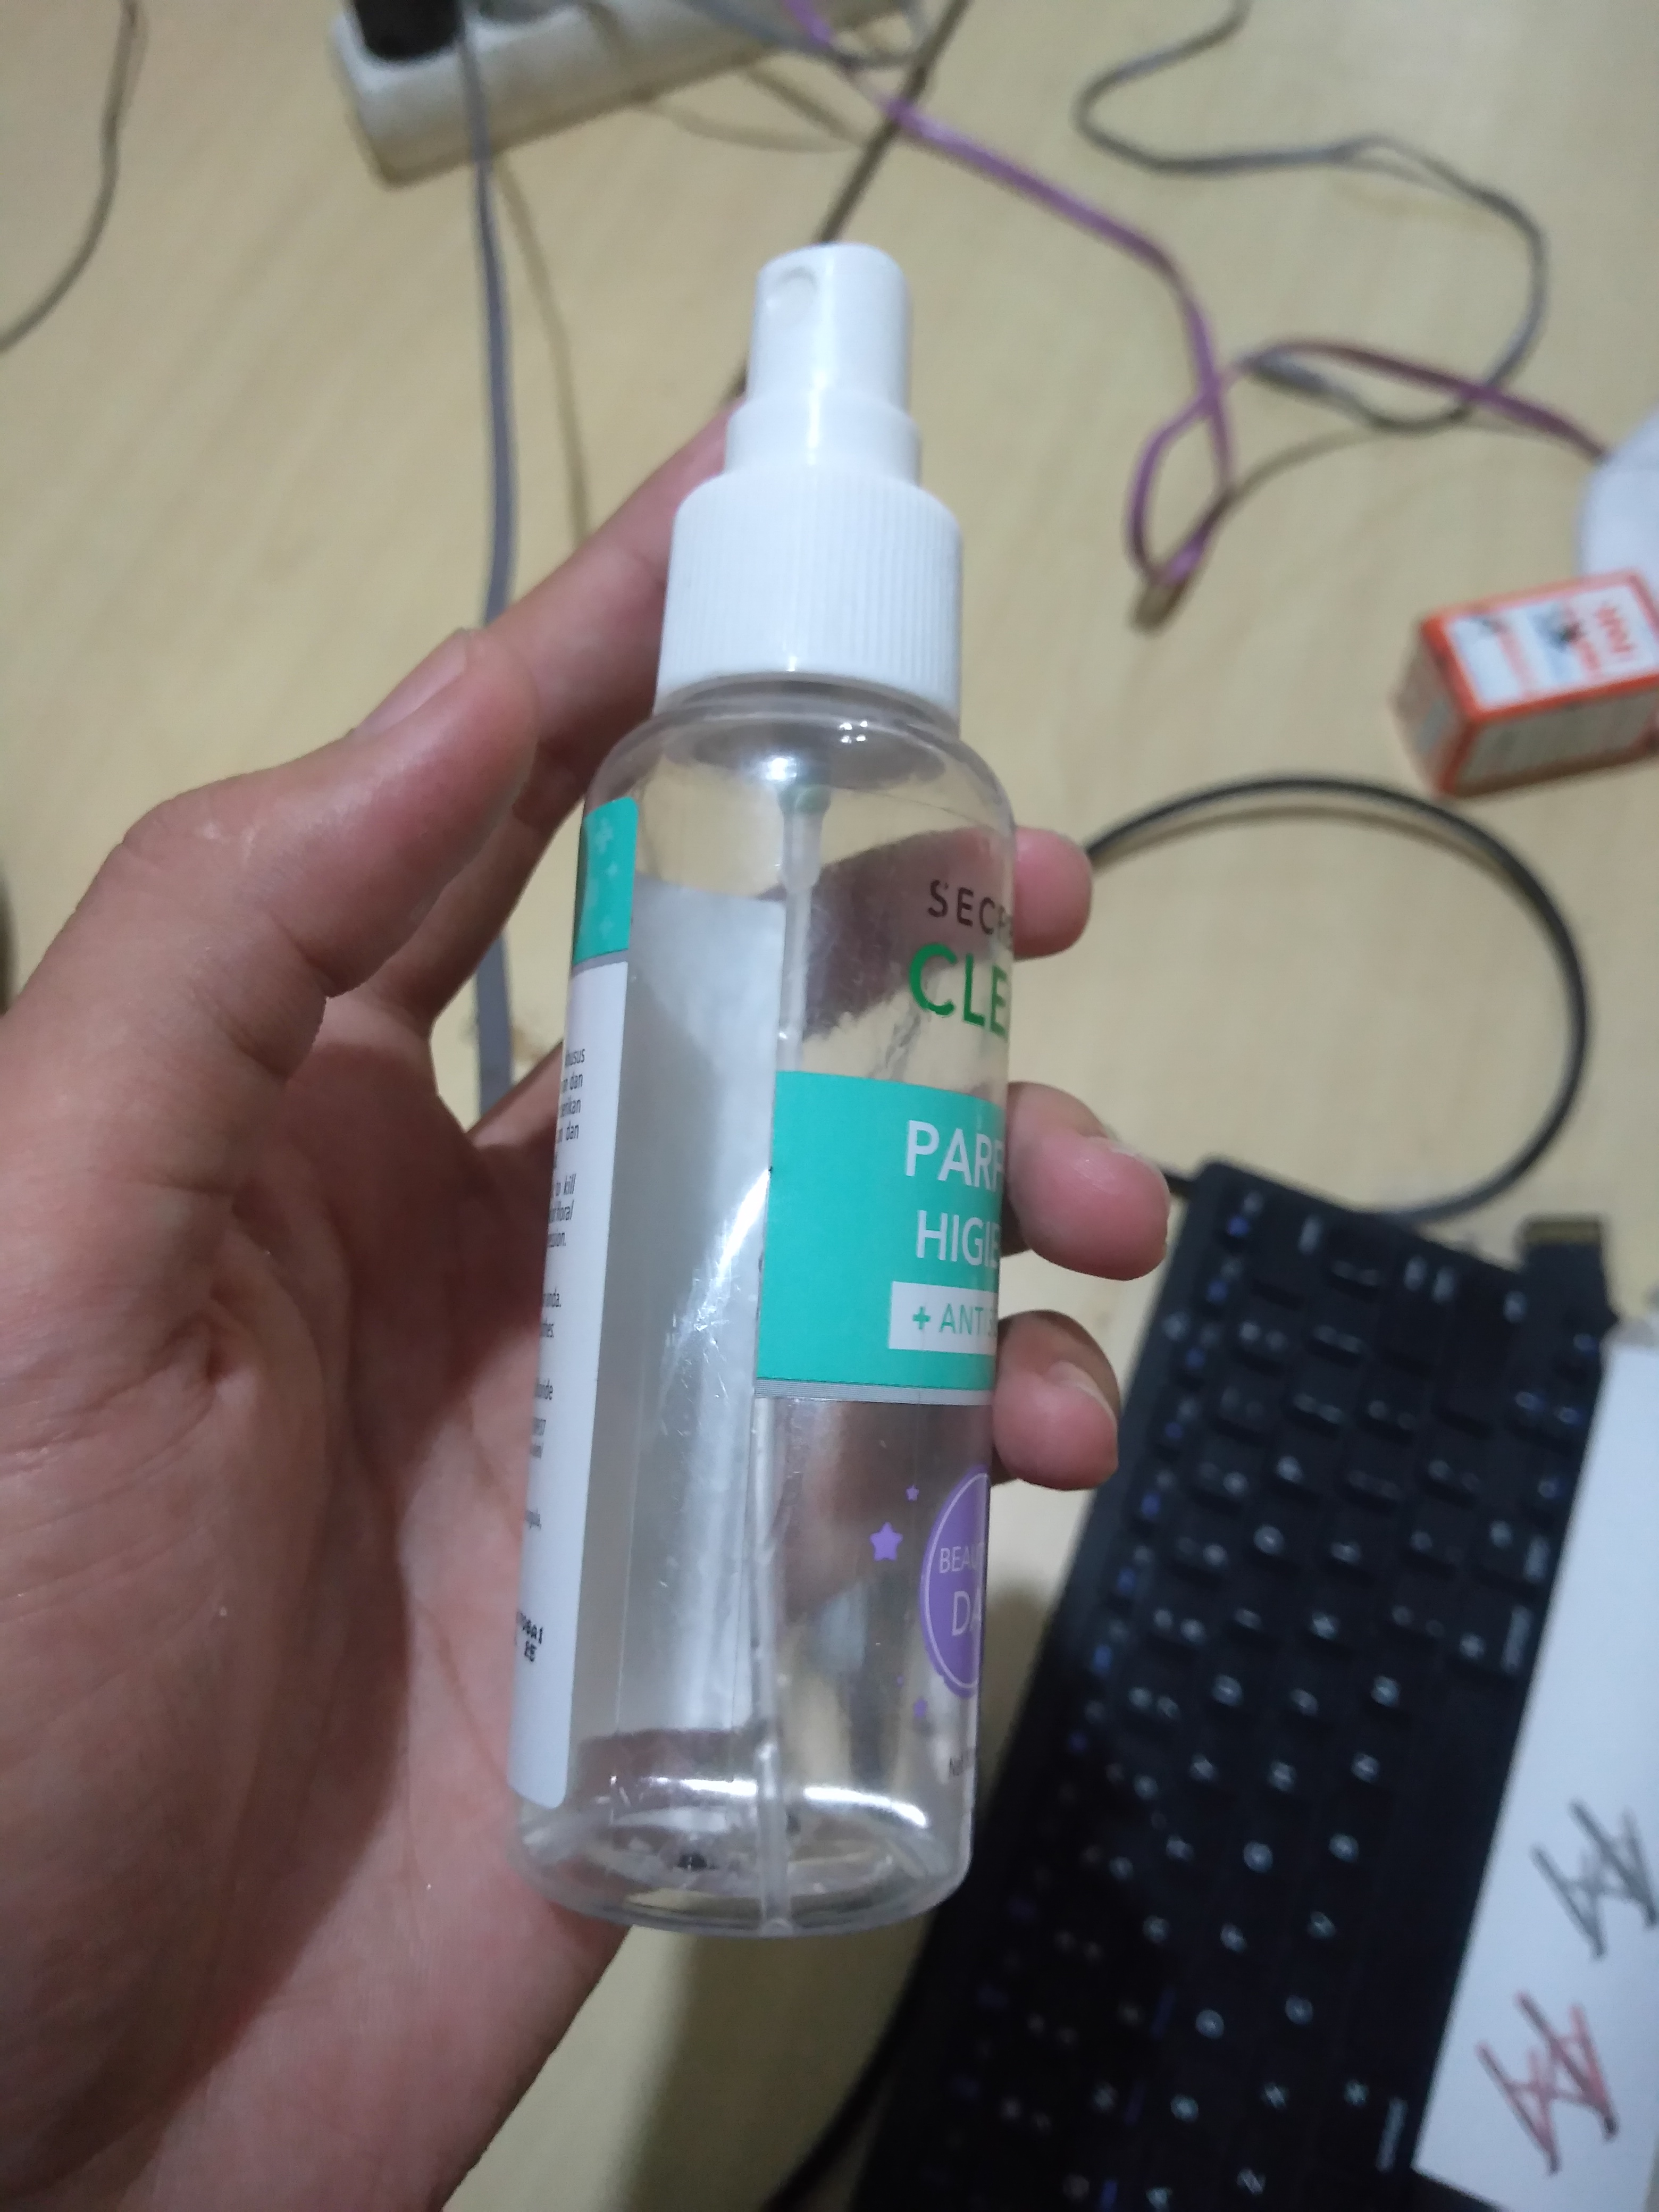hand sanitizer: (521, 171, 1016, 1937)
